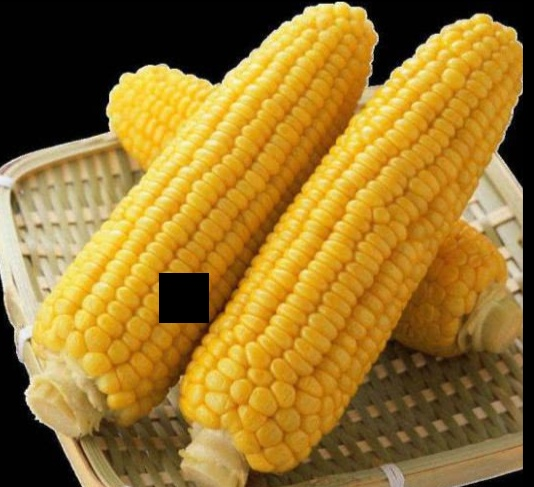corn: (23, 2, 376, 419), (213, 16, 512, 479), (103, 62, 510, 324)
